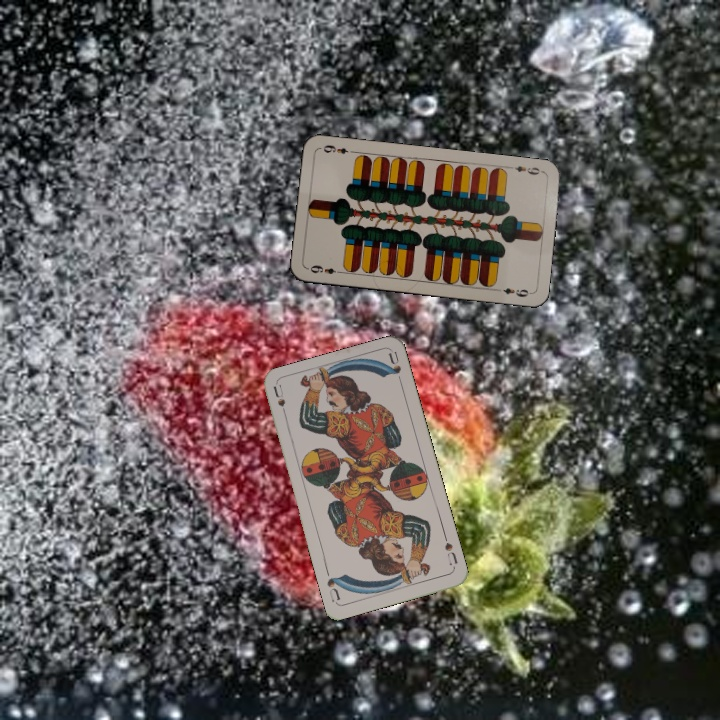E9: (505, 162, 546, 178), (306, 261, 345, 276)
SU: (269, 382, 290, 422), (440, 531, 460, 568)
